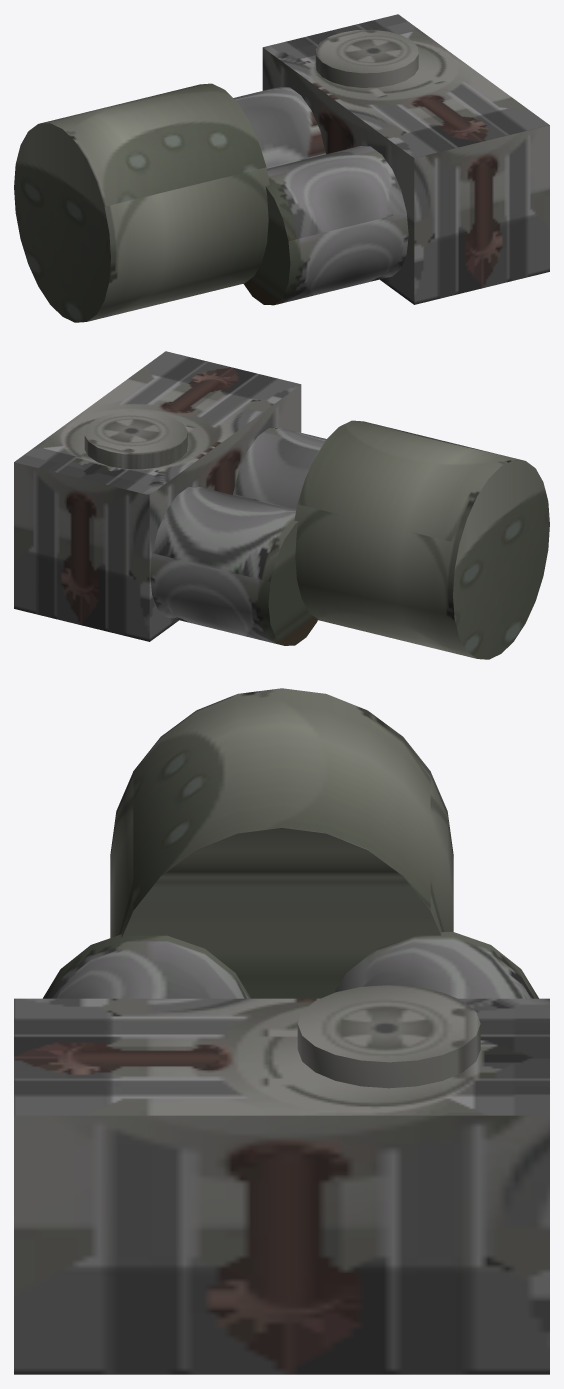
File: Building_BioferriteGenerator.obj
3 renders of one model, top to bottom at view 1: azimuth 30°, elevation 25°; view 2: azimuth 150°, elevation 25°; view 3: azimuth 270°, elevation 25°, orthographic. The views are drawn at different scales.
Visible parts, largest first — view 1: Body; view 2: Body; view 3: Body.
Part boxes in pixels (left/top/right/bottom): Body: left=14, top=14, right=549, bottom=322; Body: left=14, top=351, right=549, bottom=659; Body: left=14, top=688, right=549, bottom=1374.
Size of the model in its own units: 2.94 by 1.28 by 1.88.
1 material, 1 textured.
